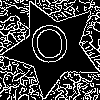O: (27, 22, 73, 73)
